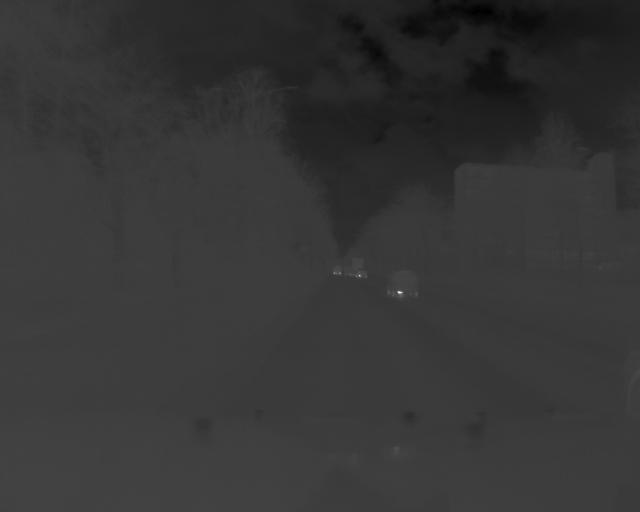car: (385, 266, 422, 301)
